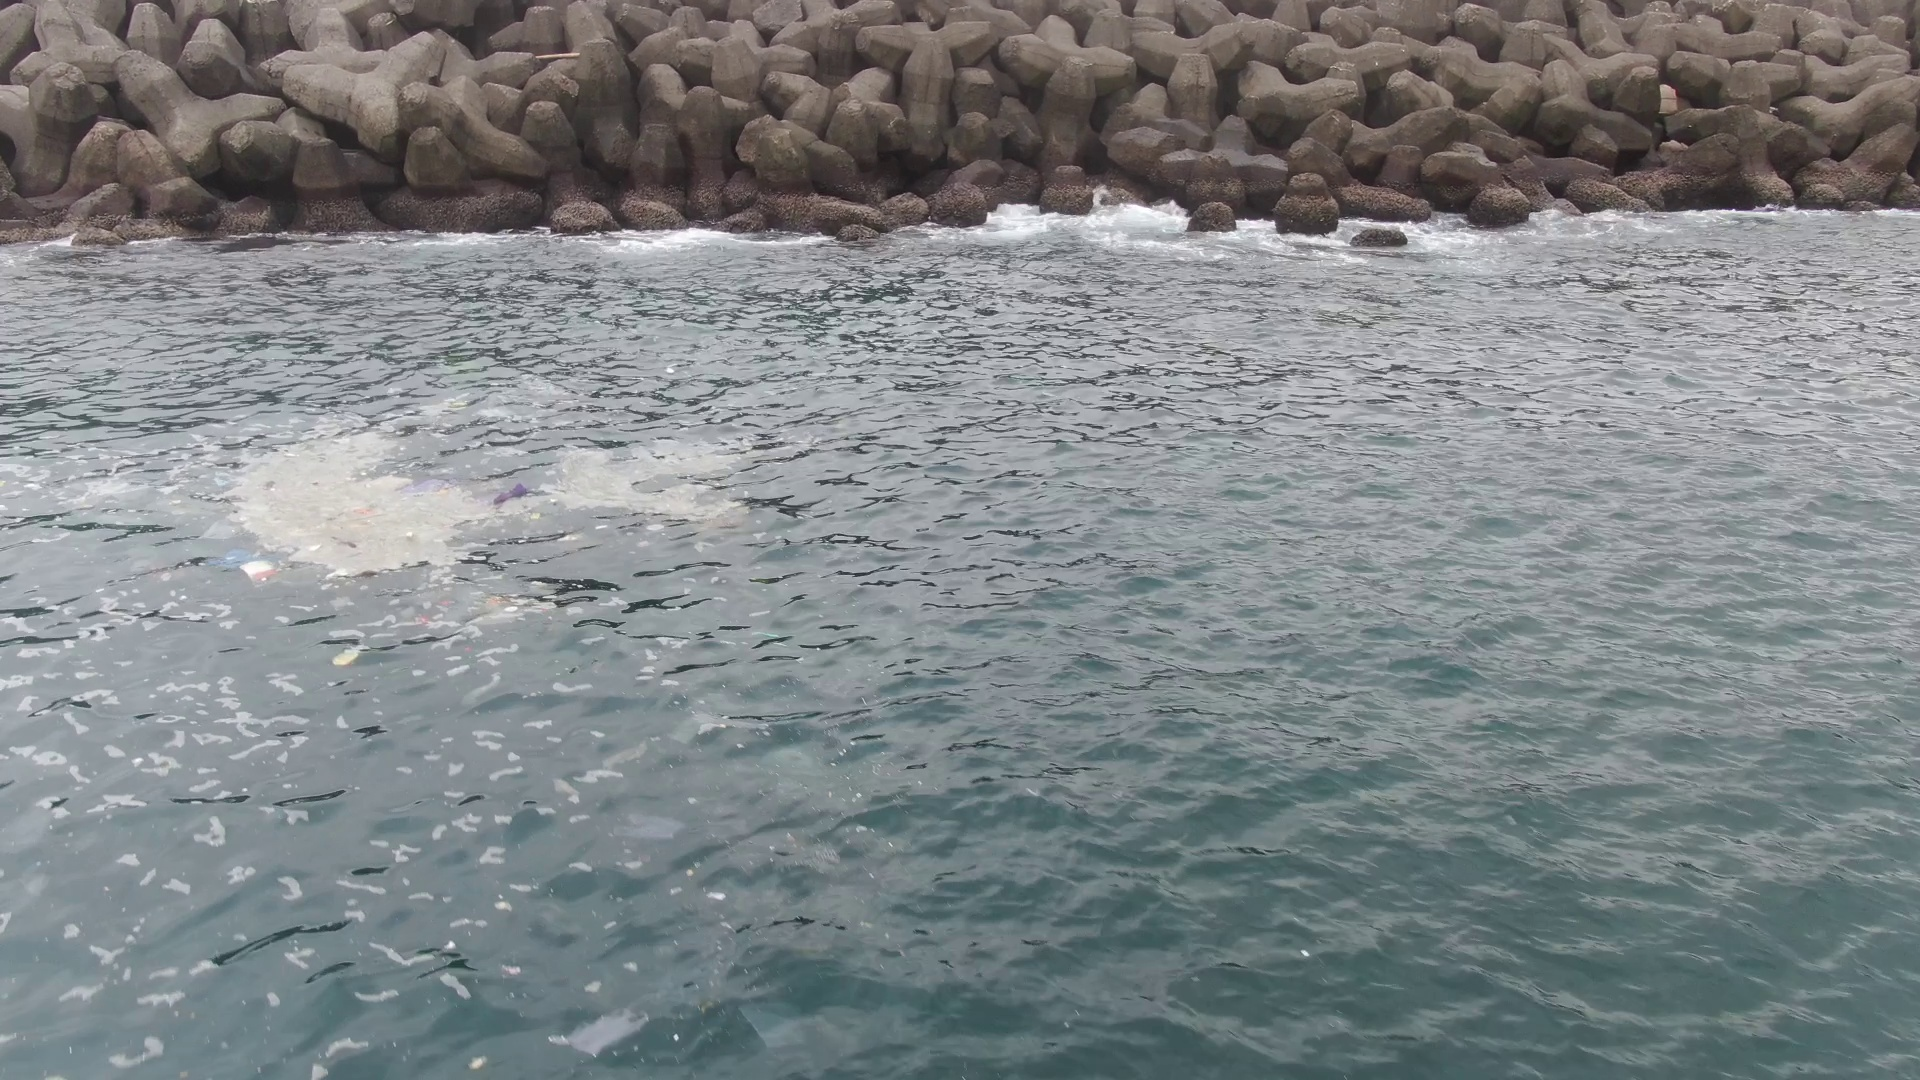garbage: (207, 422, 506, 583), (555, 1006, 653, 1058), (742, 996, 812, 1051), (504, 473, 539, 513), (334, 638, 371, 670)
